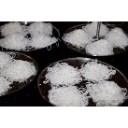idiyappam: (47, 85, 84, 106), (90, 82, 125, 104), (50, 63, 79, 84), (84, 59, 111, 81), (6, 62, 34, 82), (107, 25, 128, 49), (65, 29, 89, 48), (4, 33, 27, 50), (88, 39, 112, 55), (29, 21, 52, 34), (30, 33, 52, 46)
